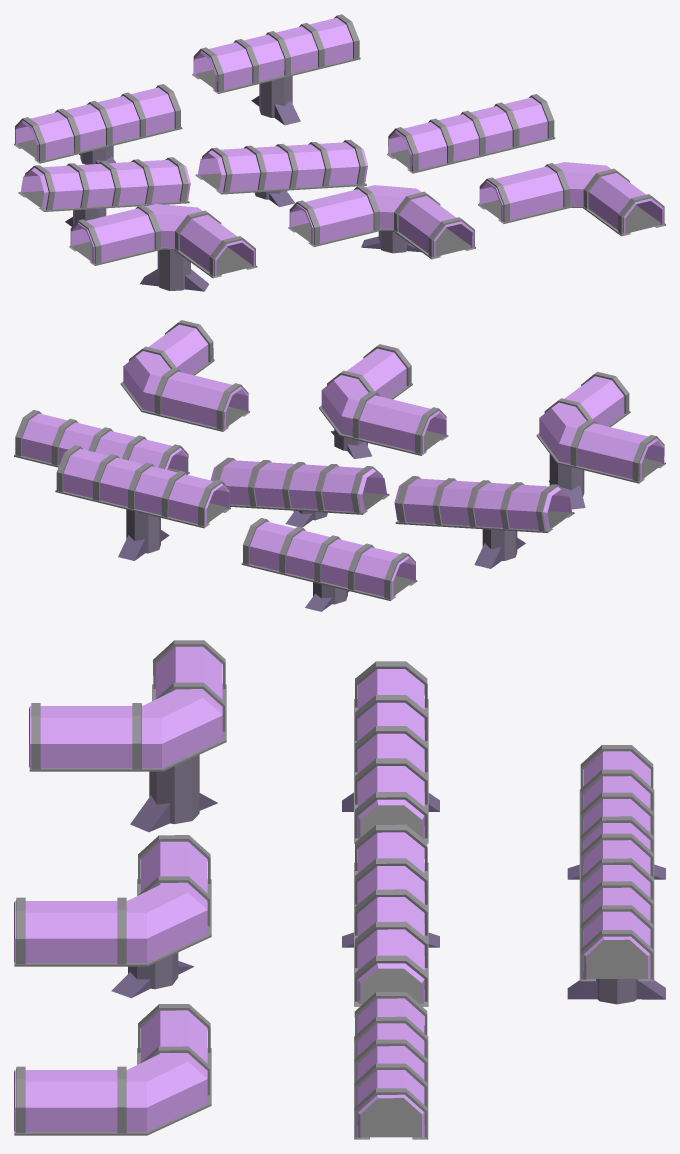
The model's file is Pista_FinalConcertada_.fbx.
The picture shows the model from 3 angles, top to bottom: view 1: azimuth 30°, elevation 25°; view 2: azimuth 150°, elevation 25°; view 3: azimuth 270°, elevation 25°; orthographic projection. The views are drawn at different scales.
Visible parts, largest first — view 1: Cube.016, Cylinder.019, Cylinder.020, Cube.001, Cylinder.021, Tubo 1.001, Cylinder.017, Tubo 1; view 2: Cylinder.020, Cube.016, Cylinder.017, Cylinder.019, Cylinder.021, Cube.001, Tubo 1.001, Tubo 1; view 3: Cube.016, Cylinder.019, Cube.001, Tubo 1.001, Cylinder.017, Cylinder.020, Tubo 1, Cylinder.021.
Part boxes in pixels (box(x1,y1,x2,y2)): Cube.016: box(69, 204, 257, 291); Cylinder.019: box(288, 185, 475, 259); Cylinder.020: box(192, 14, 360, 125); Cube.001: box(478, 162, 665, 236); Cylinder.021: box(14, 84, 182, 164); Tubo 1.001: box(195, 139, 367, 207); Cylinder.017: box(18, 157, 190, 226); Tubo 1: box(387, 94, 555, 173); Cylinder.020: box(55, 445, 230, 560); Cube.016: box(536, 371, 665, 509); Cylinder.017: box(394, 476, 574, 568); Cylinder.019: box(319, 344, 448, 458); Cylinder.021: box(241, 518, 417, 611); Cube.001: box(120, 320, 249, 431); Tubo 1.001: box(210, 457, 389, 527); Tubo 1: box(14, 410, 189, 474); Cube.016: box(29, 640, 226, 832); Cylinder.019: box(14, 835, 211, 998); Cube.001: box(14, 1004, 211, 1135); Tubo 1.001: box(342, 824, 439, 1006); Cylinder.017: box(342, 661, 439, 843); Cylinder.020: box(567, 833, 665, 1004); Tubo 1: box(354, 992, 428, 1139); Cylinder.021: box(567, 745, 665, 879).
Size of the model in its own units: 35706 by 5534 by 26095.
